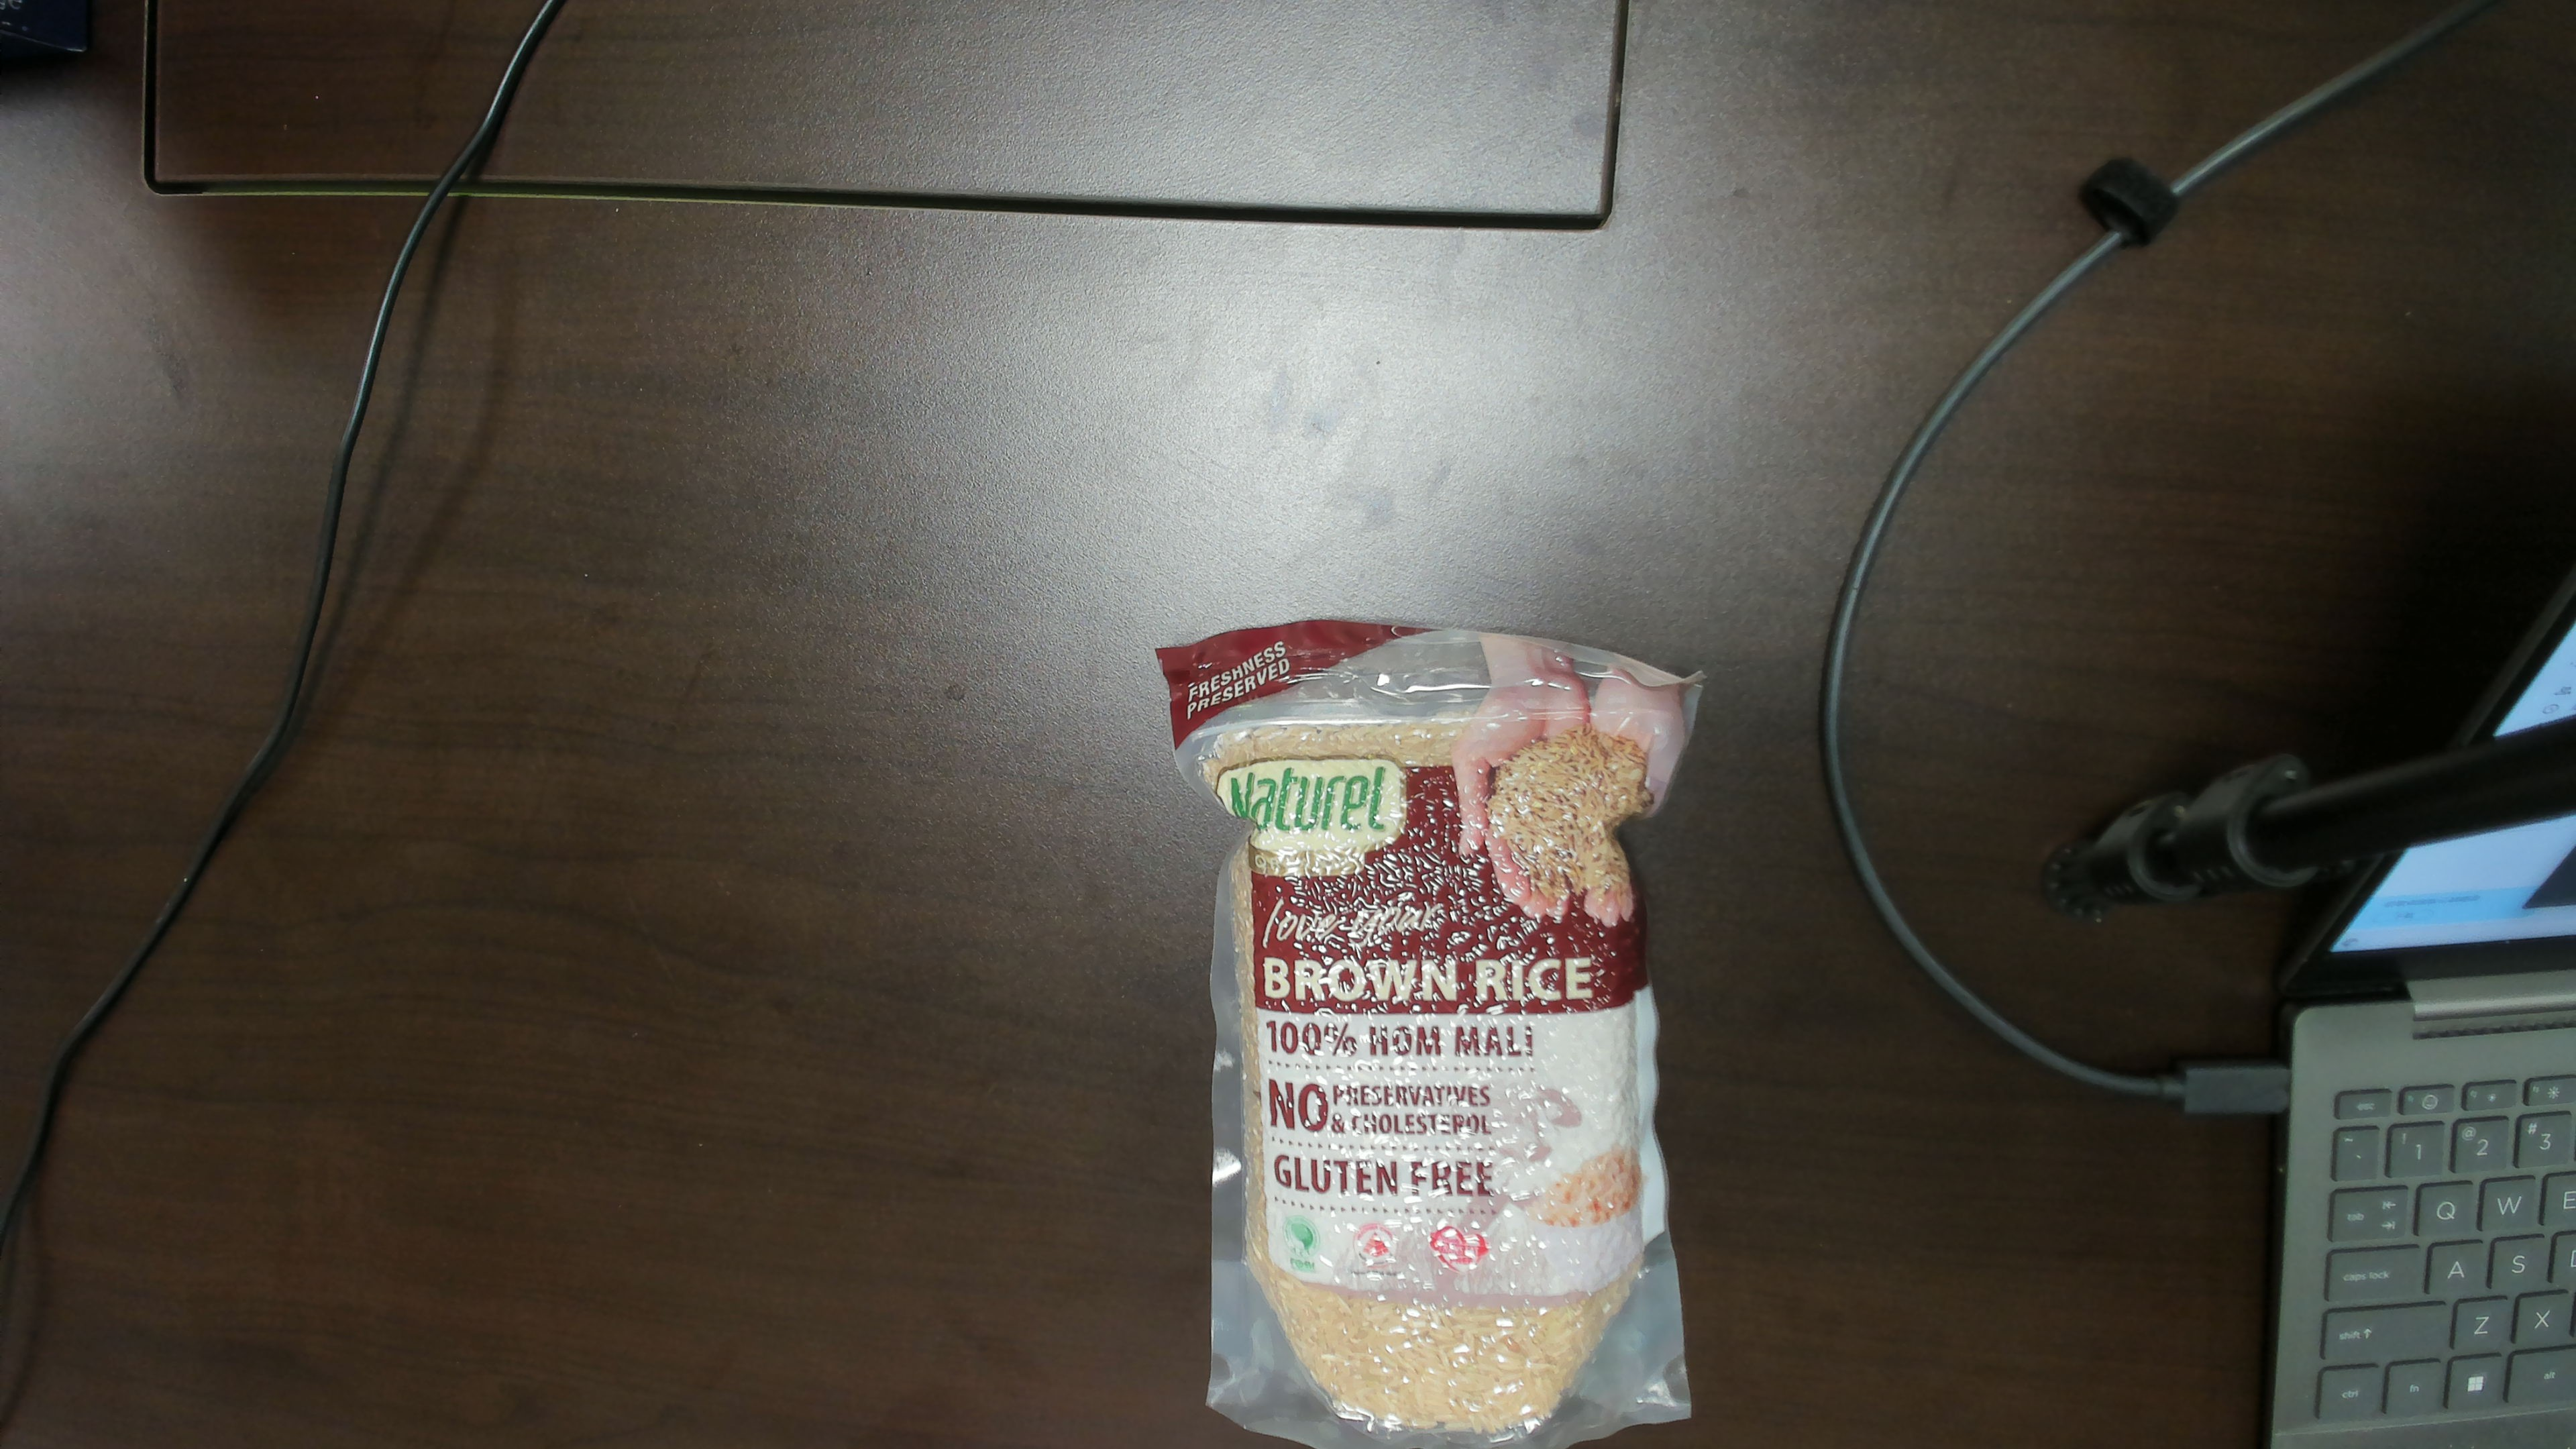Rice(brown-others)_700-799g_NonHalal_Healthy: (1217, 669, 1654, 1431)
